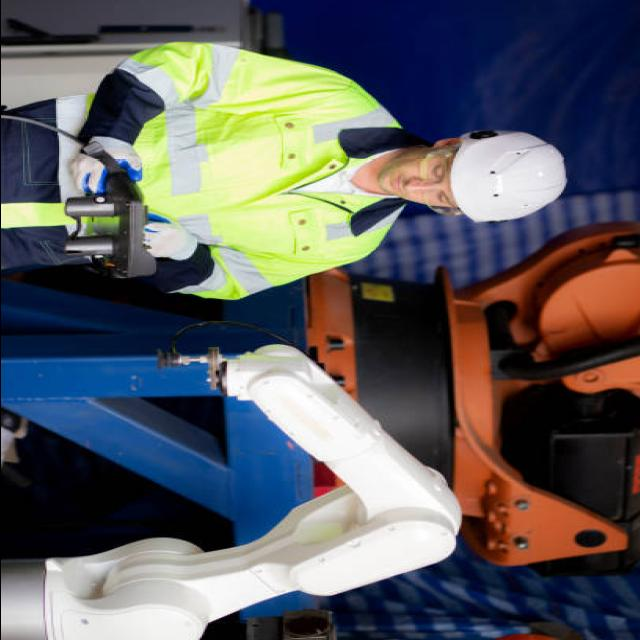Robotic-arm: (0, 338, 480, 640)
